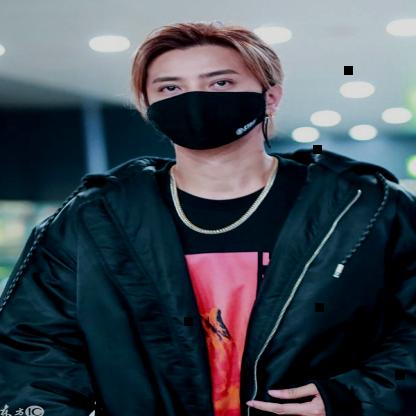mask: (121, 16, 290, 155)
